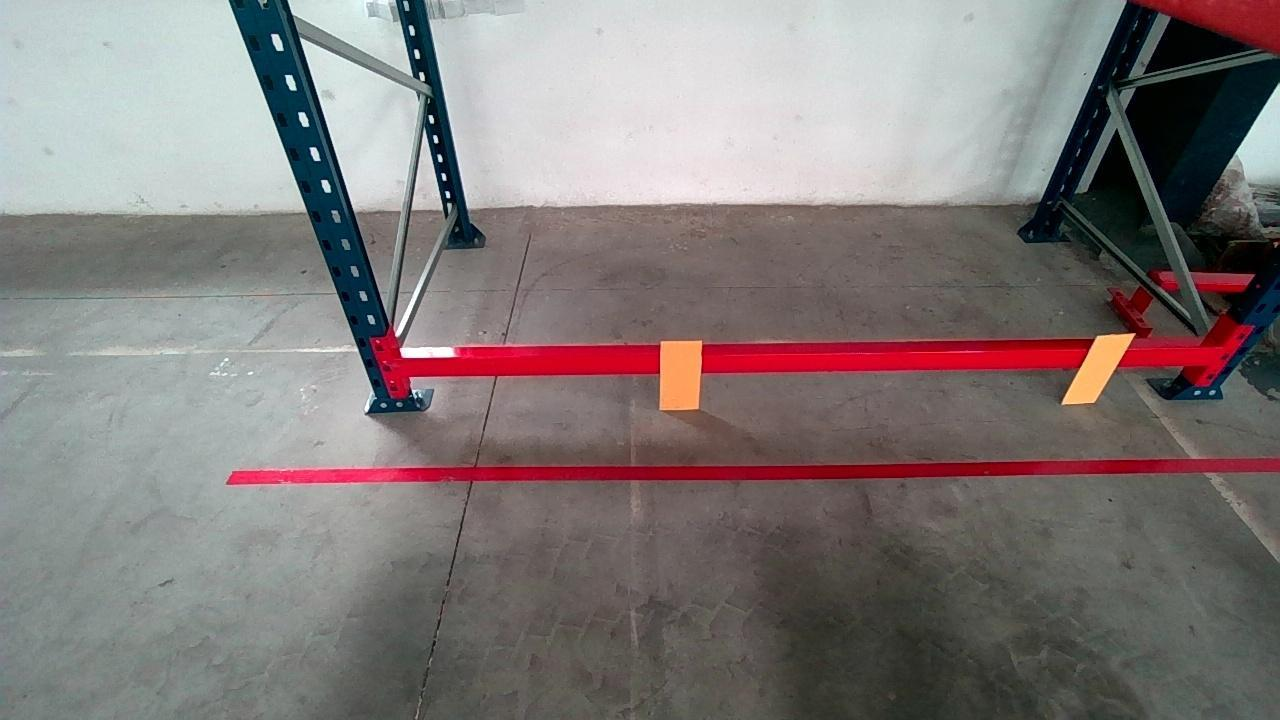h_rack: (398, 339, 1212, 379)
orange_strip: (1062, 334, 1135, 402), (660, 339, 703, 408)
red_line: (228, 452, 1278, 491)
